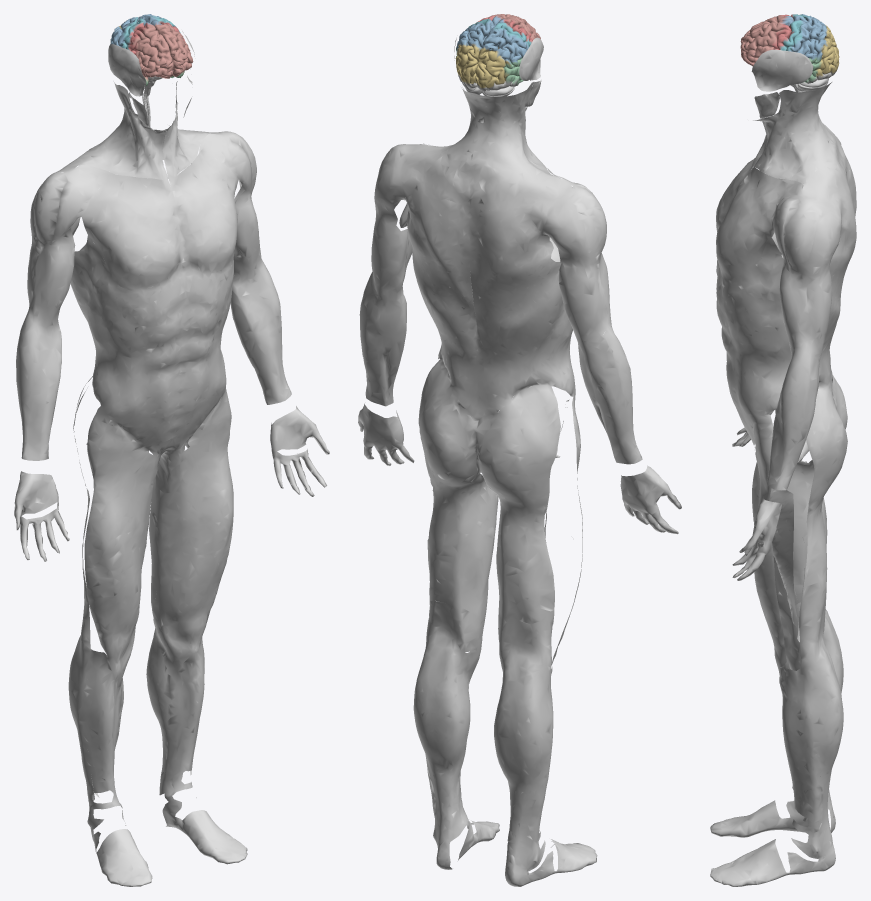
The model's file is organs.glb.
3 renders of one model, left to right at view 1: azimuth 30°, elevation 25°; view 2: azimuth 150°, elevation 25°; view 3: azimuth 270°, elevation 25°, orthographic. The views are drawn at different scales.
Visible parts, largest first — view 1: skin, cortex; view 2: skin, cortex; view 3: skin, cortex.
Part boxes in pixels (x1,y1,x2,y2): skin: (14, 31, 329, 886); cortex: (110, 14, 193, 85); skin: (358, 37, 681, 886); cortex: (455, 14, 540, 91); skin: (710, 49, 856, 886); cortex: (740, 14, 839, 83).
Size of the model in its own units: 0.6707 by 1.69 by 0.2687.
